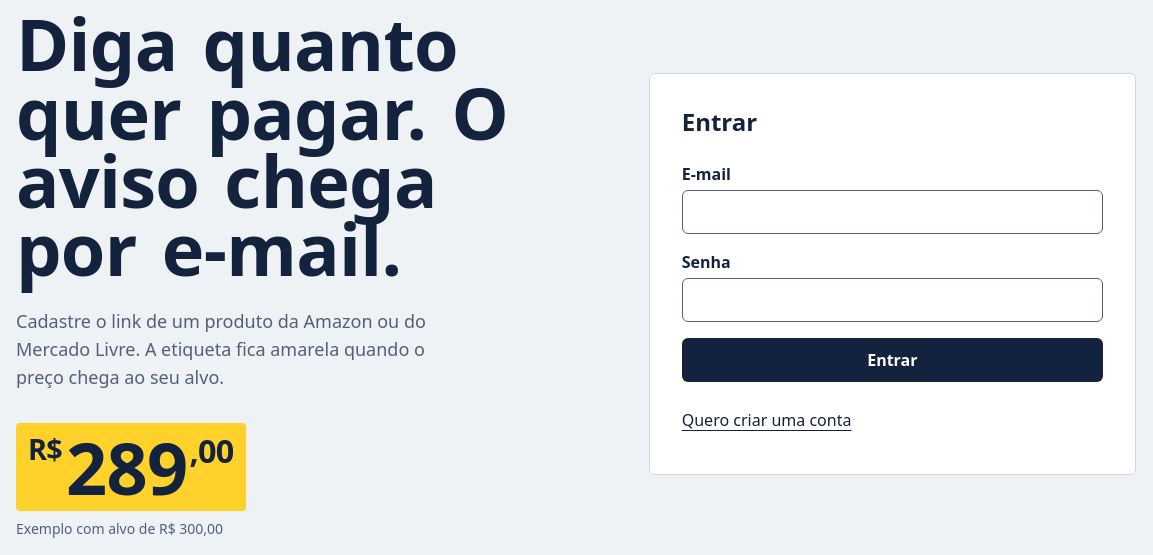
cadastro pede confirmação por e-mail
Click the button "Quero criar uma conta".
click(767, 420)  # box [682,398,851,442]
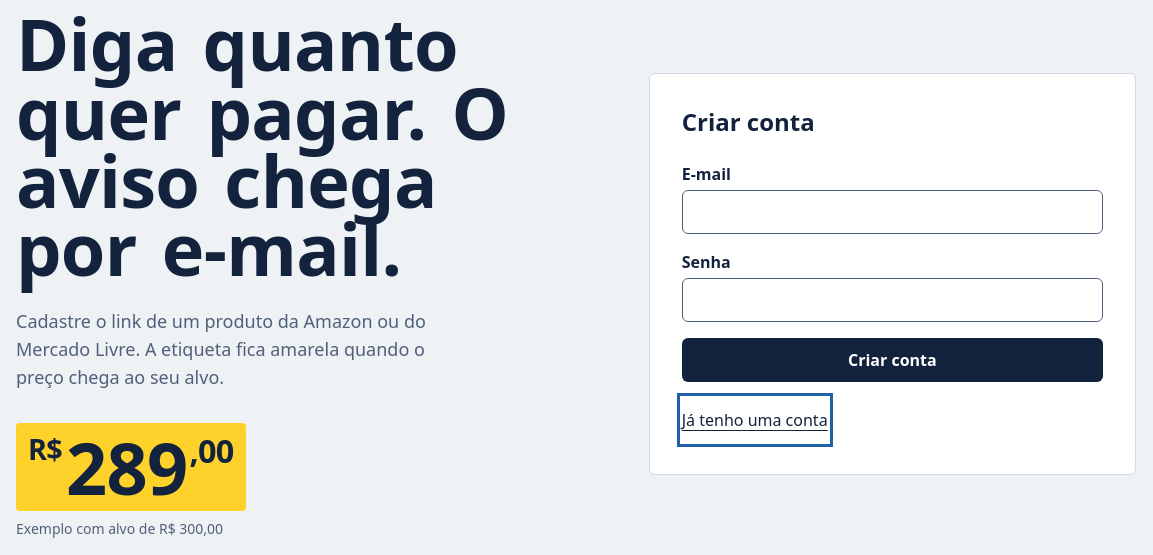
Type "ana@exemplo.com" into the field labelled "E-mail".
click(892, 212); type("ana@exemplo.com")  # box [682,190,1103,234]
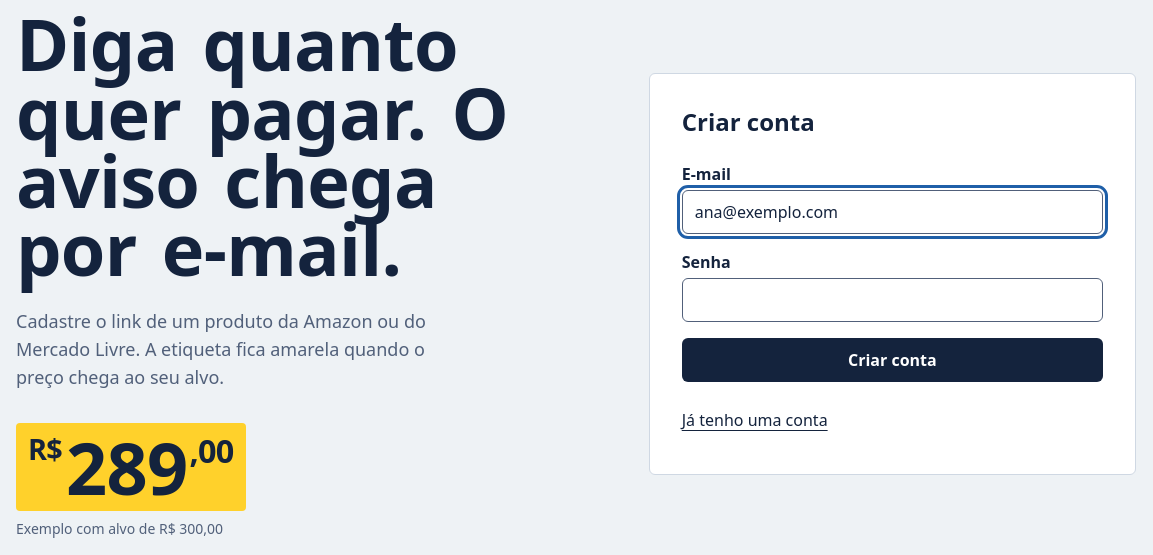
Type "senha-longa" into the password field labelled "Senha".
click(892, 300); type("senha-longa")  # box [682,278,1103,322]
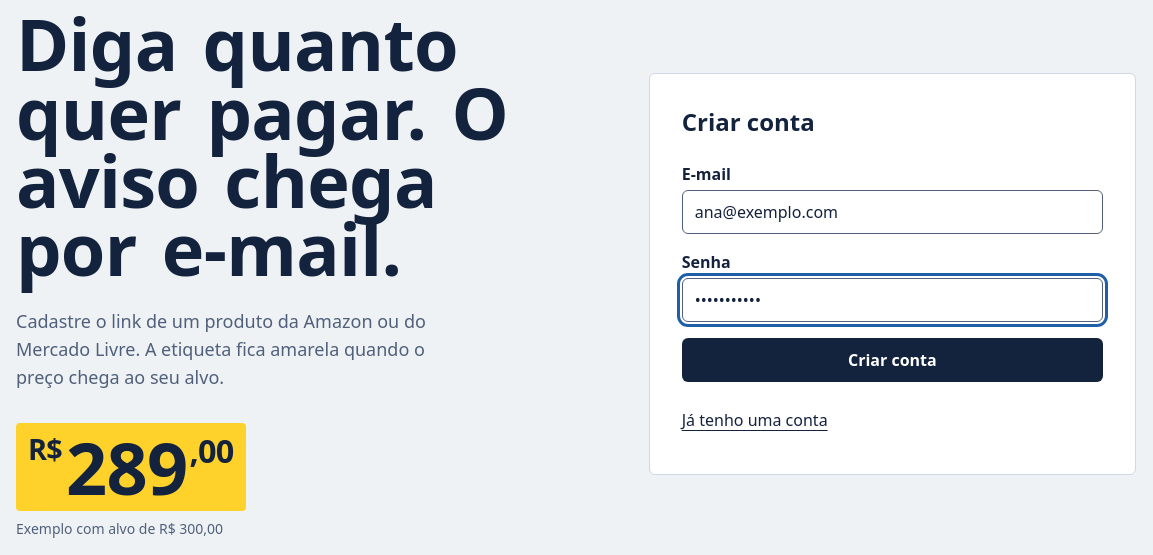
Click the button "Criar conta".
click(892, 360)  # box [682,338,1103,382]
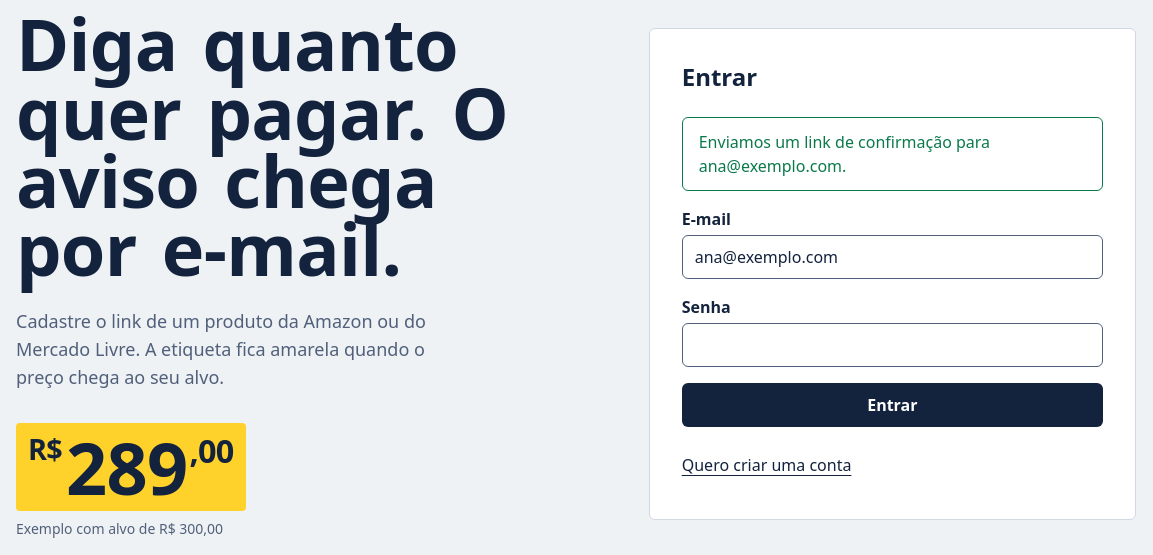
Expected: the message shows "ana@exemplo.com", [699,131,990,177]
